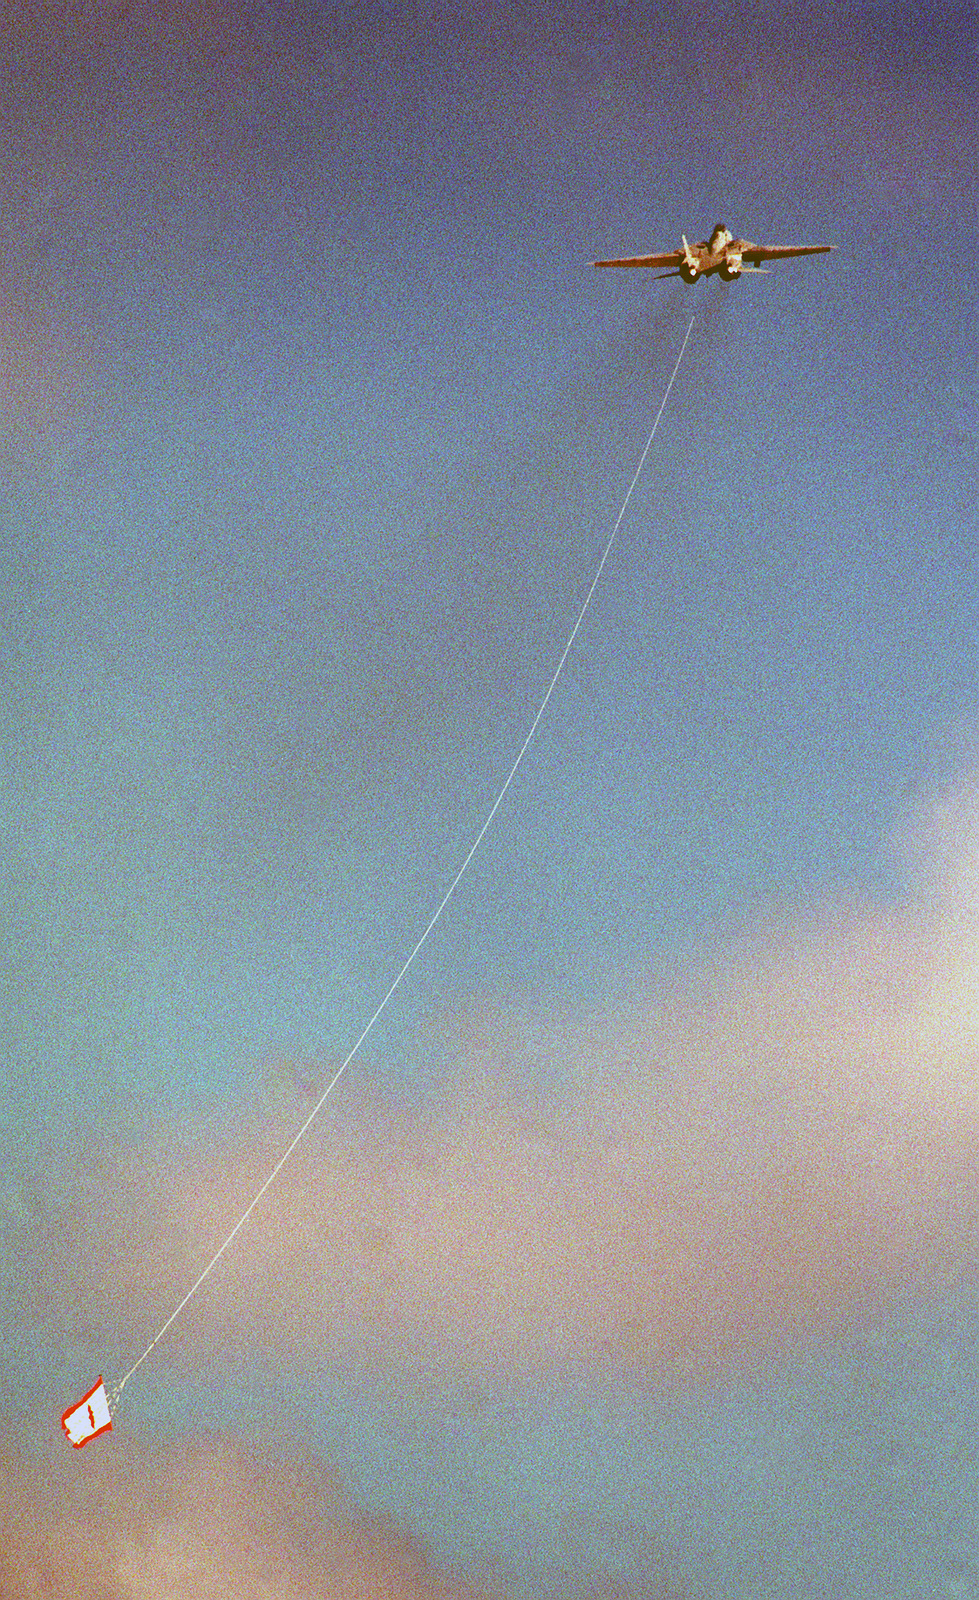F14: (584, 222, 838, 283)
